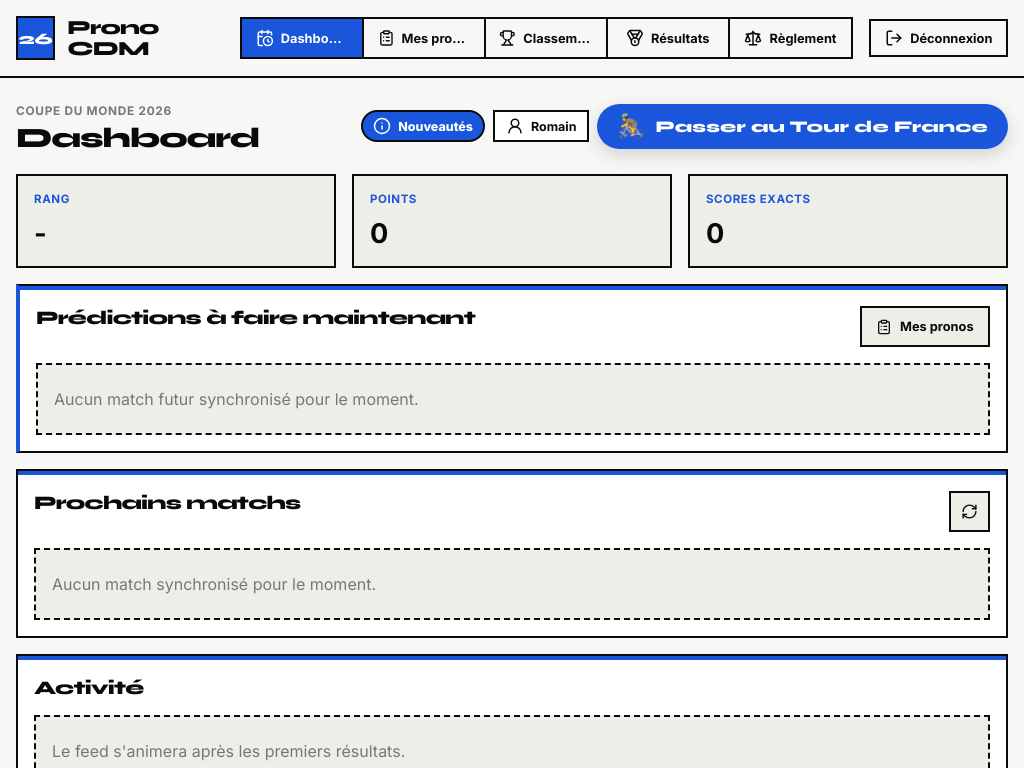
Test: App components › restores the previous score when the field is focused then left empty
The image size is (1024, 768).
Expected: the heading "Dashboard" is shown, 16,123 -> 259,154
Click the button "Mes pronos" in the row of "Prono CDM" at {"x": 425, "y": 38}, box 364,19 -> 486,57
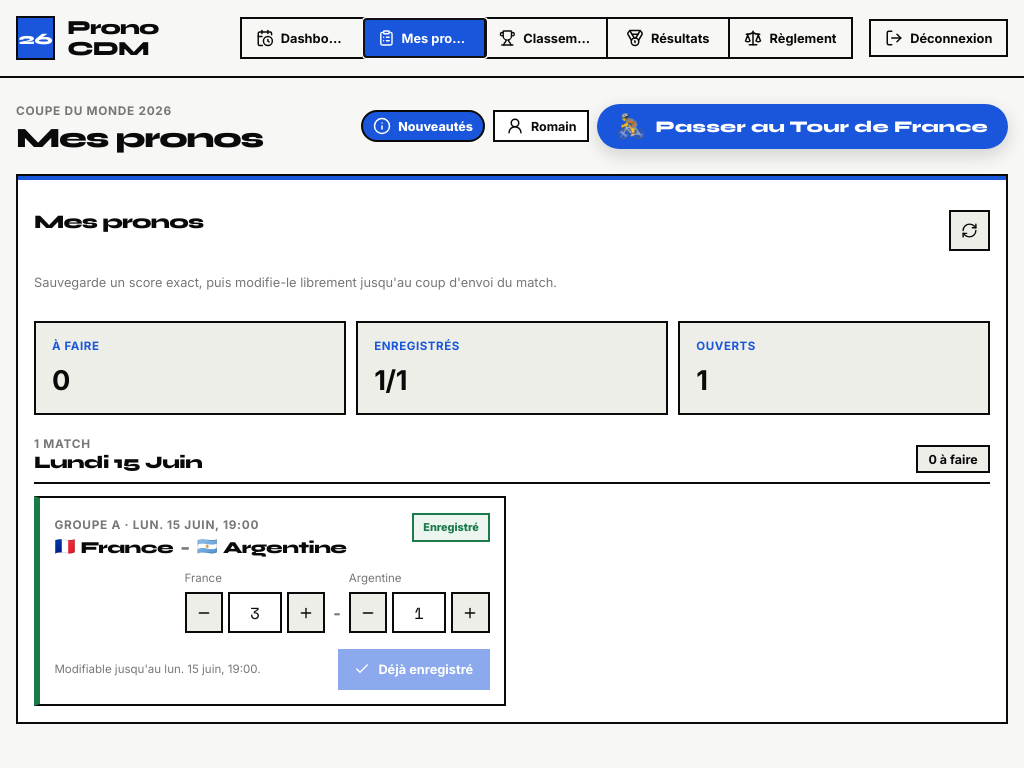
Expected: the field named "Score France" holds "3"
Click the field named "Score France" at {"x": 255, "y": 613}, box 228,592 -> 282,633
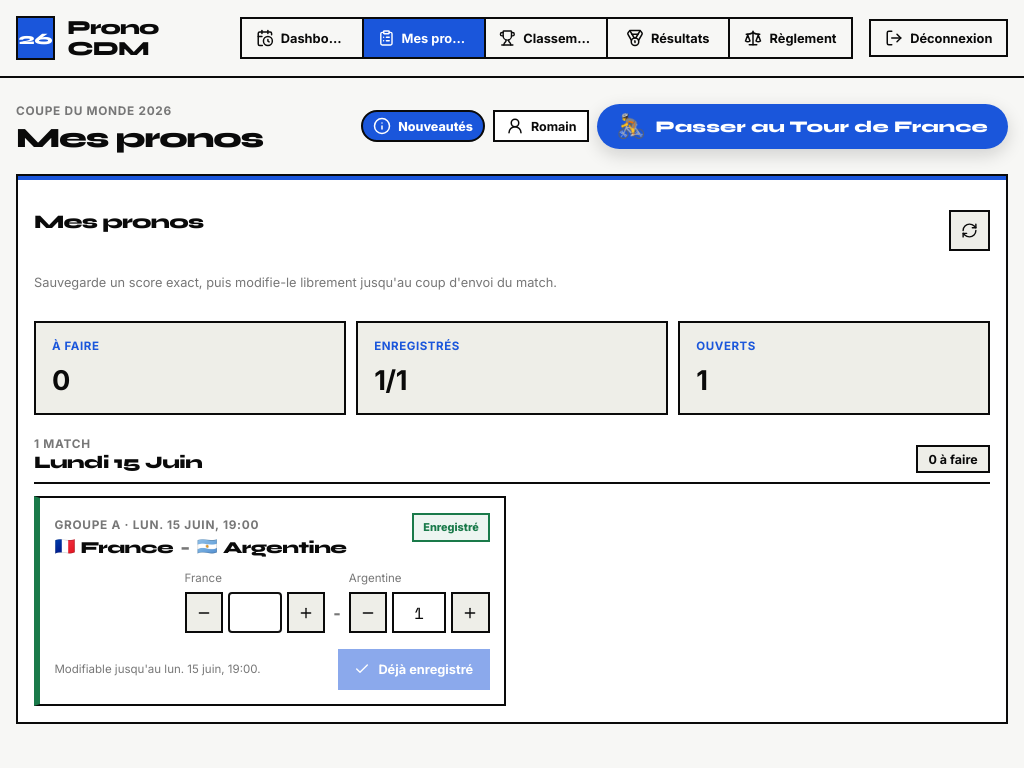
Expected: the field named "Score France" is empty, 228,592 -> 282,633
Press Tab
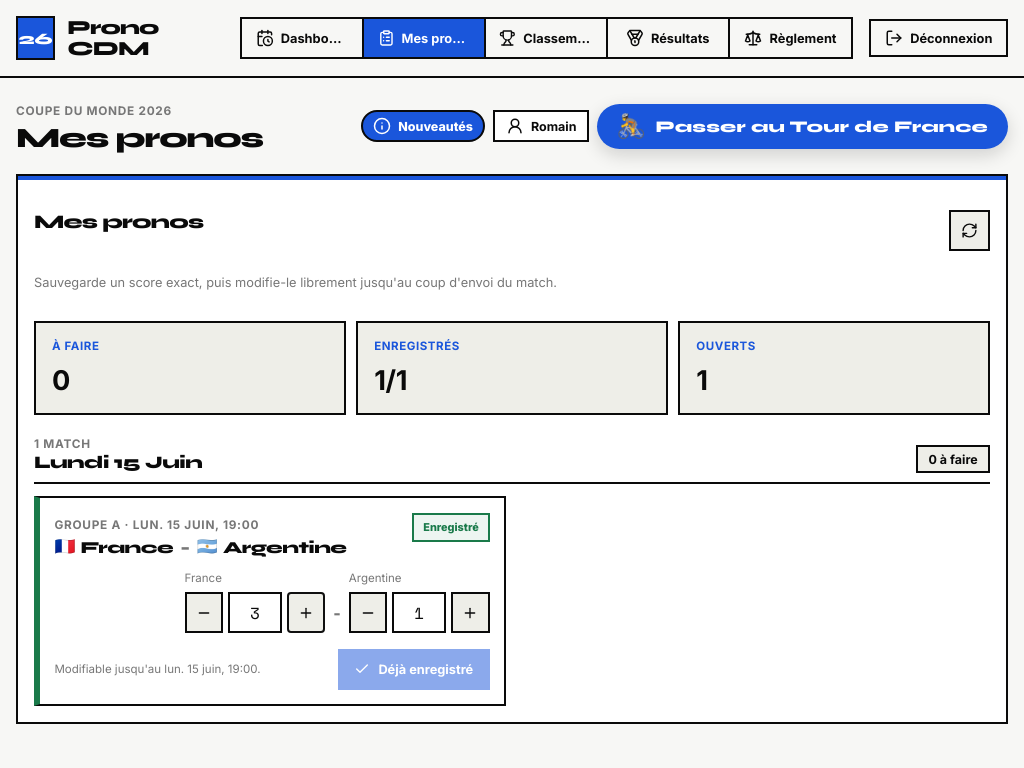
Expected: the field named "Score France" holds "3", 228,592 -> 282,633
